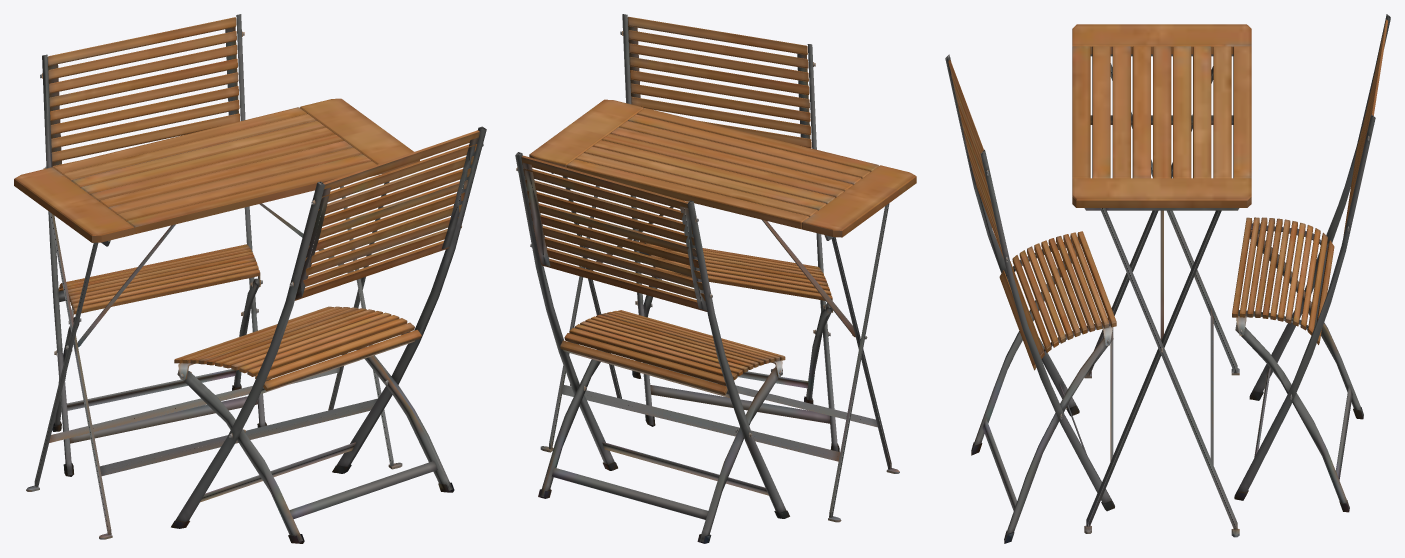
File: ph-outdoor-table-chair-set-01.glb
3 renders of one model, left to right at view 1: azimuth 30°, elevation 25°; view 2: azimuth 150°, elevation 25°; view 3: azimuth 270°, elevation 25°, orthographic. The views are drawn at different scales.
Parts seen in each view (by area): view 1: outdoor_table_chair_set_01_chair_01, outdoor_table_chair_set_01_table; view 2: outdoor_table_chair_set_01_chair_01, outdoor_table_chair_set_01_table; view 3: outdoor_table_chair_set_01_table, outdoor_table_chair_set_01_chair_01.
Boxes of the visible parts, x1,y1,x2,y2 form: outdoor_table_chair_set_01_chair_01: (40,14,486,543); outdoor_table_chair_set_01_table: (14,98,419,539); outdoor_table_chair_set_01_chair_01: (515,14,839,543); outdoor_table_chair_set_01_table: (529,99,916,522); outdoor_table_chair_set_01_table: (1072,24,1251,537); outdoor_table_chair_set_01_chair_01: (945,14,1390,543).
Bounding box in the file's own units: 1 × 1 × 0.9994.
Materials: 2 (2 with a texture image).
